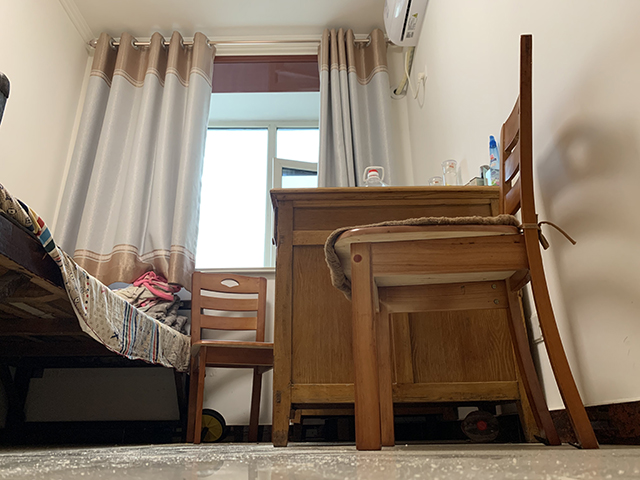bed: (1, 180, 202, 450)
stool: (322, 33, 601, 452), (183, 270, 274, 446)
table: (269, 184, 544, 448)
